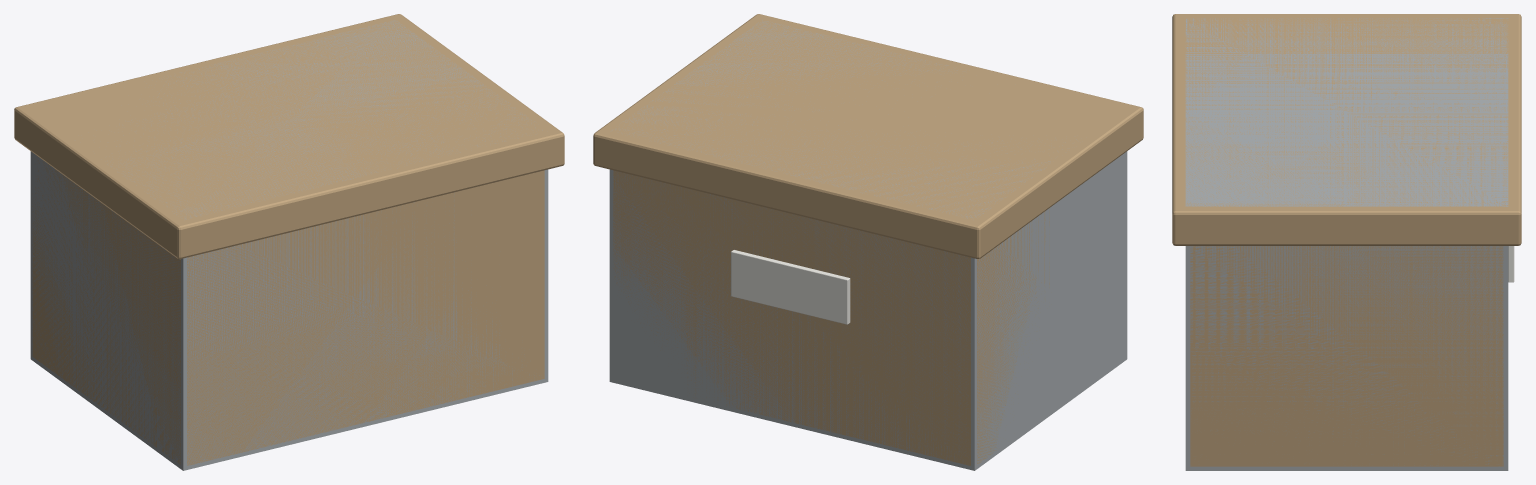
The model's file is storage_box.glb.
3 views of the same model, side by side, from view 1: azimuth 30°, elevation 25°; view 2: azimuth 150°, elevation 25°; view 3: azimuth 270°, elevation 25° (orthographic). The views are drawn at different scales.
Visible parts, largest first — view 1: propkit_storage_box_001_body, propkit_storage_box_COL, propkit_storage_box_002_lid; view 2: propkit_storage_box_002_lid, propkit_storage_box_COL, propkit_storage_box_001_body, propkit_storage_box_003_label; view 3: propkit_storage_box_COL, propkit_storage_box_001_body, propkit_storage_box_002_lid.
Boxes of the visible parts, x1,y1,x2,y2 form: propkit_storage_box_001_body: [32, 159, 544, 465]; propkit_storage_box_COL: [30, 20, 548, 470]; propkit_storage_box_002_lid: [14, 14, 564, 259]; propkit_storage_box_002_lid: [593, 14, 1143, 259]; propkit_storage_box_COL: [609, 20, 1127, 470]; propkit_storage_box_001_body: [613, 170, 1049, 465]; propkit_storage_box_003_label: [731, 250, 850, 324]; propkit_storage_box_COL: [1185, 18, 1508, 470]; propkit_storage_box_001_body: [1190, 246, 1503, 466]; propkit_storage_box_002_lid: [1172, 14, 1521, 245].
Size of the model in its own units: 0.615 by 0.38 by 0.455.
